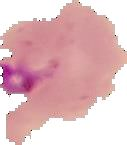parasitized: (5, 24, 82, 111)
